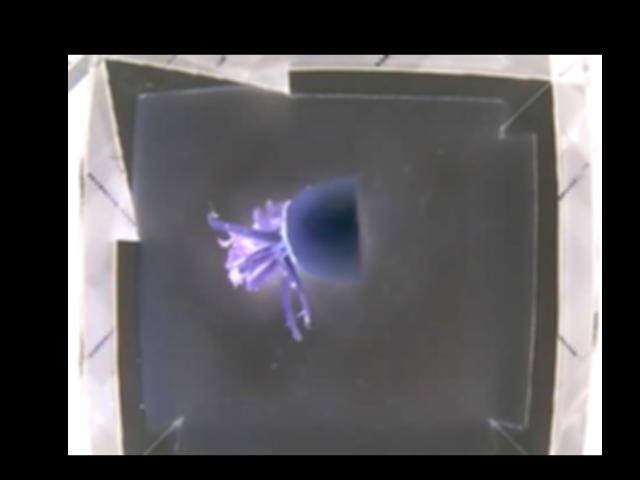Mooli: (215, 179, 364, 305)
